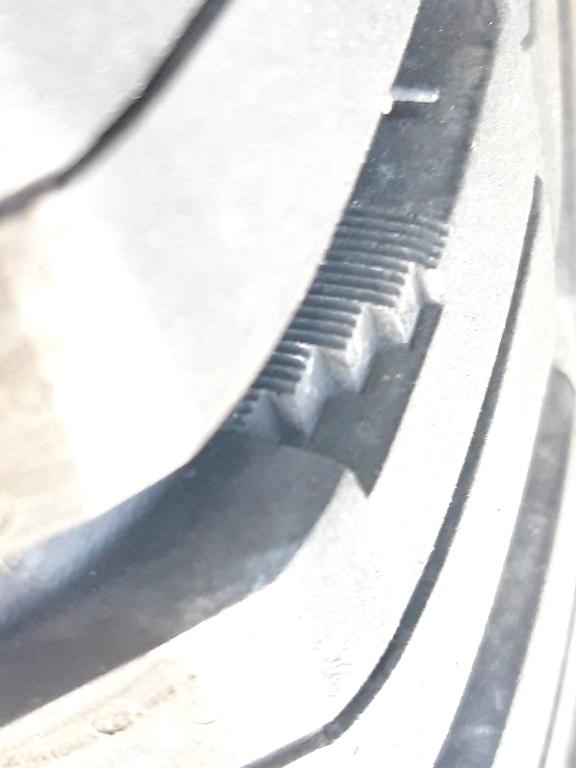temoin:90: (200, 198, 482, 511)
